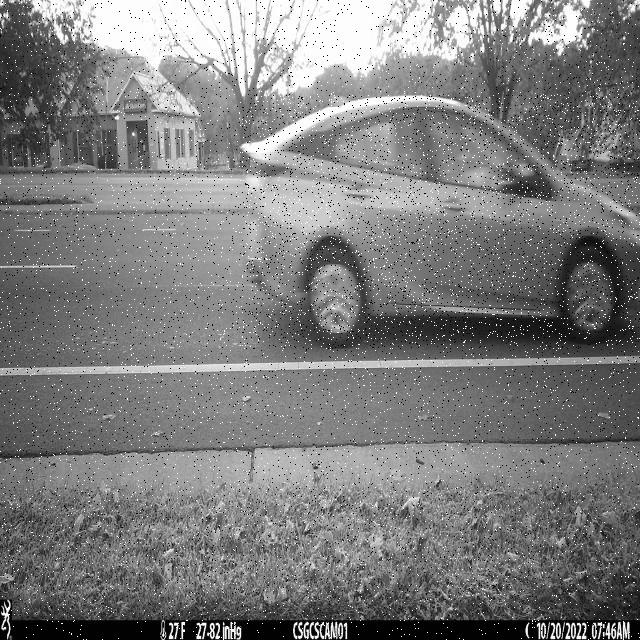Hatchback: (242, 95, 640, 349)
